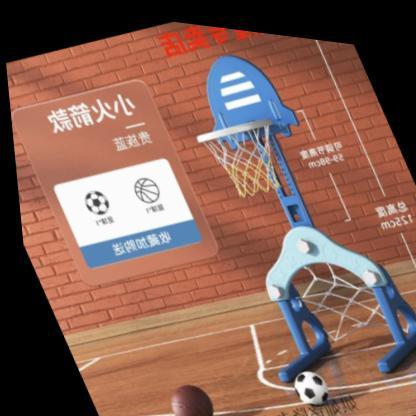basketball: (155, 371, 214, 416)
rim: (189, 102, 297, 204)
